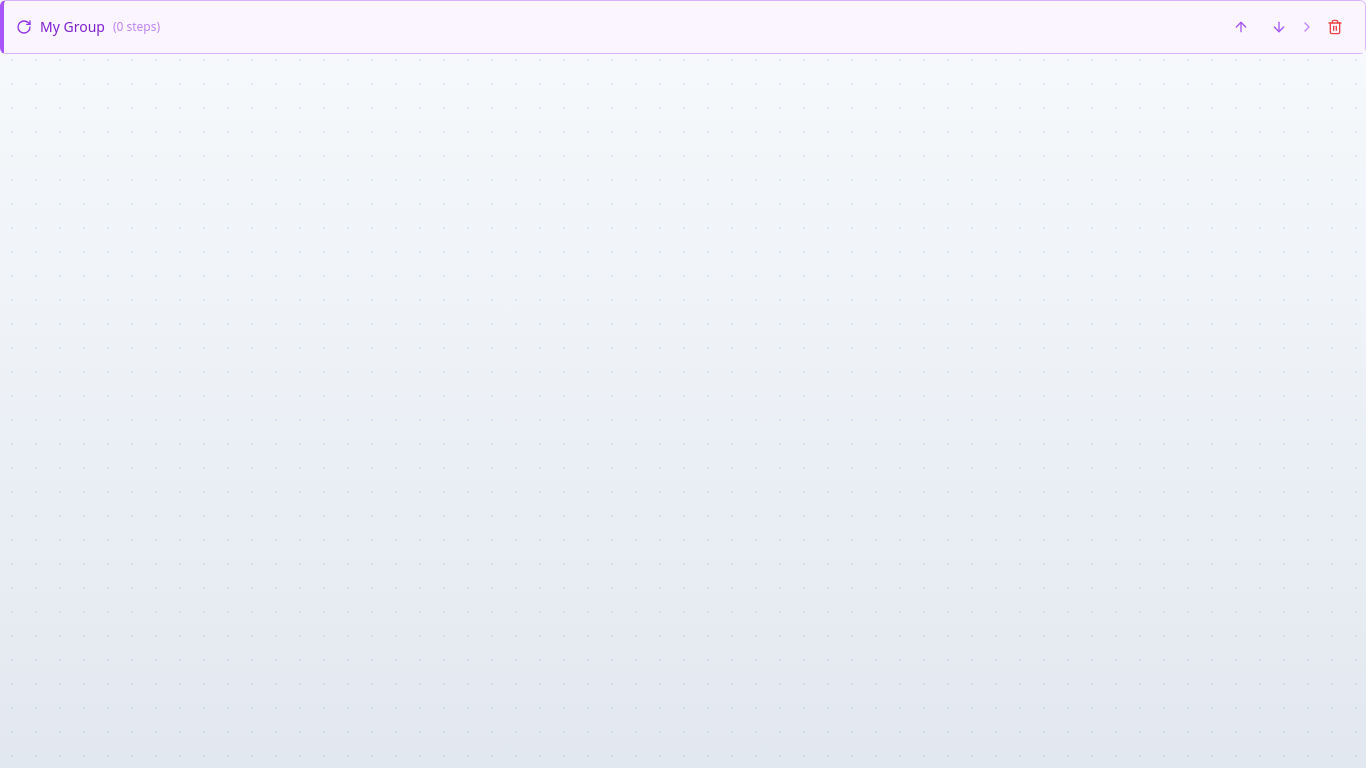
Test: GroupCard › expand / collapse › shows editable fields after clicking the header
Click the button at point(72, 26), box [4,1,1365,53]
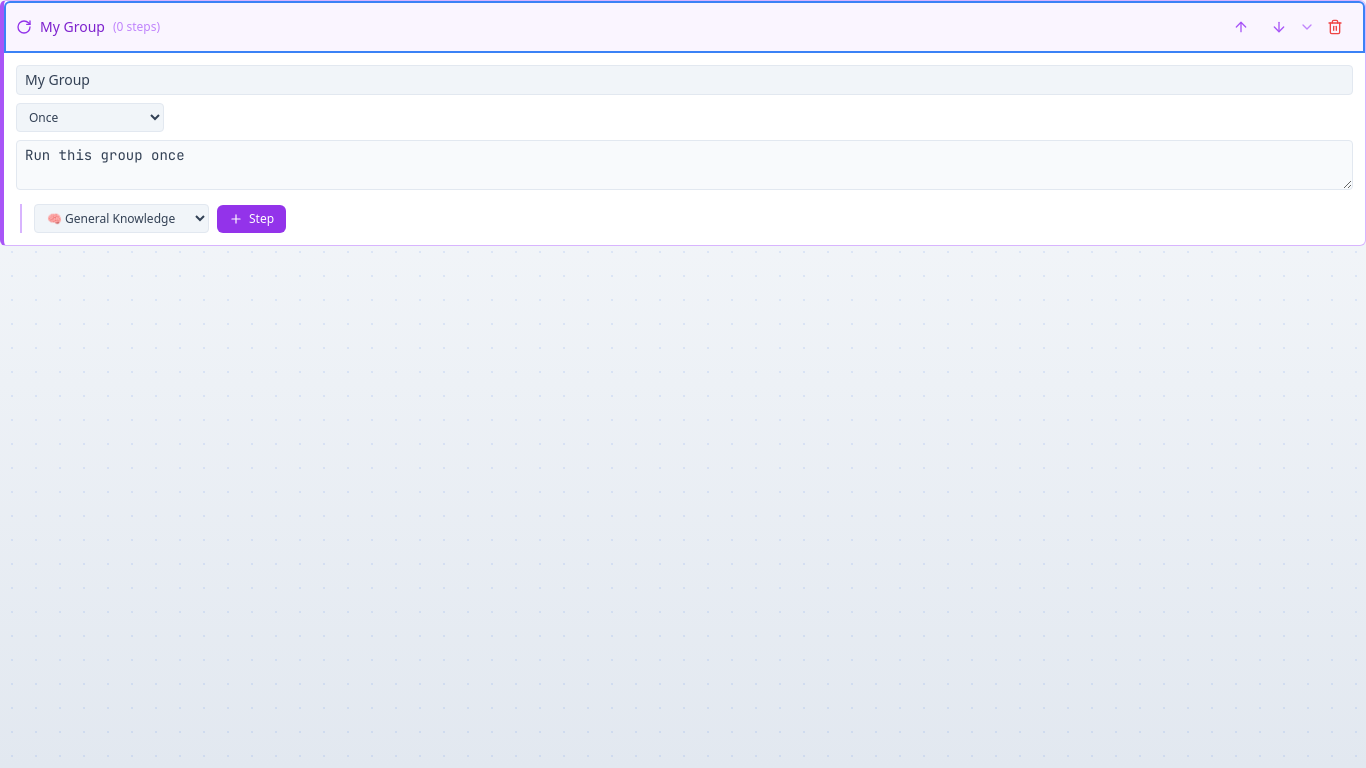
Result: the field with placeholder "Group Title" is shown at [16,65,1353,95]
Result: the text box with placeholder "Reasoning Instructions" is shown at [16,140,1353,190]
